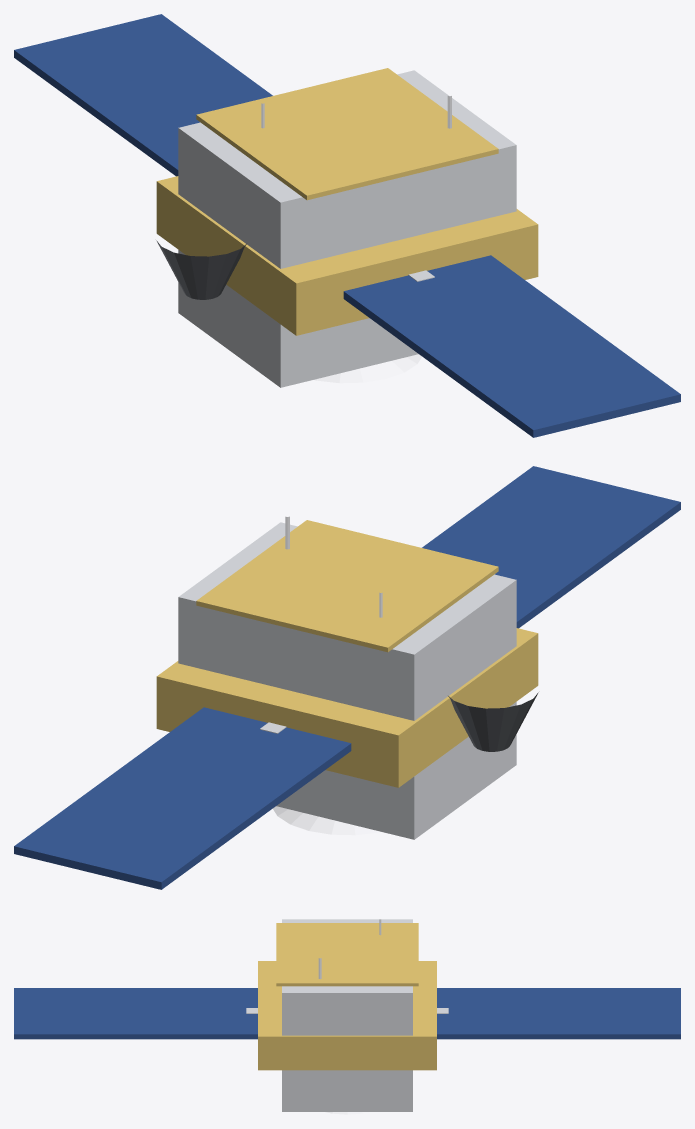
File: lumen-satellite.glb
The picture shows the model from 3 angles, top to bottom: view 1: azimuth 30°, elevation 25°; view 2: azimuth 150°, elevation 25°; view 3: azimuth 270°, elevation 25°; orthographic projection. The views are drawn at different scales.
Visible parts, largest first — view 1: Lumen1Spacecraft; view 2: Lumen1Spacecraft; view 3: Lumen1Spacecraft.
Part boxes in pixels (bbox=[...]): Lumen1Spacecraft: bbox=[14, 14, 680, 437]; Lumen1Spacecraft: bbox=[14, 466, 680, 889]; Lumen1Spacecraft: bbox=[14, 919, 680, 1114].
Size of the model in its own units: 2.08 by 1.81 by 6.1.
